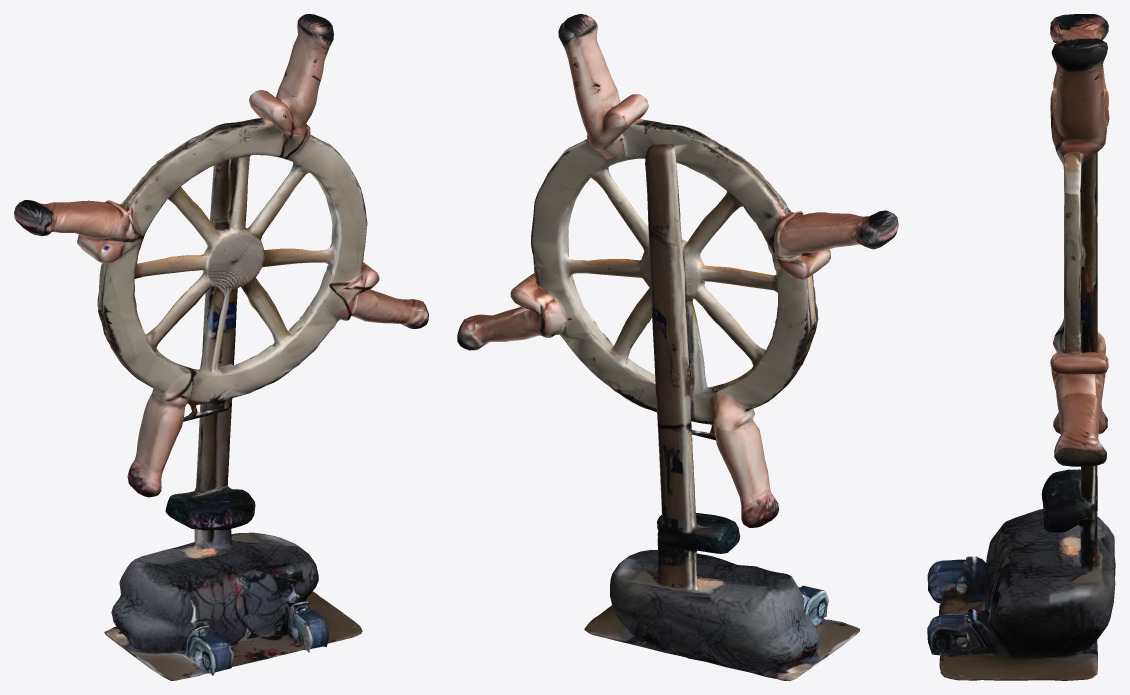
The picture shows the model from 3 angles, left to right: view 1: azimuth 30°, elevation 25°; view 2: azimuth 150°, elevation 25°; view 3: azimuth 270°, elevation 25°; orthographic projection. The views are drawn at different scales.
Parts seen in each view (by area): view 1: geometry_0; view 2: geometry_0; view 3: geometry_0.
Boxes of the visible parts, box(x1,y1,x2,y2) form: geometry_0: box(14, 14, 428, 680); geometry_0: box(457, 14, 898, 680); geometry_0: box(927, 14, 1115, 680).
Size of the model in its own units: 1.41 by 1.9 by 0.5004.
Materials: 1 (1 with a texture image).
